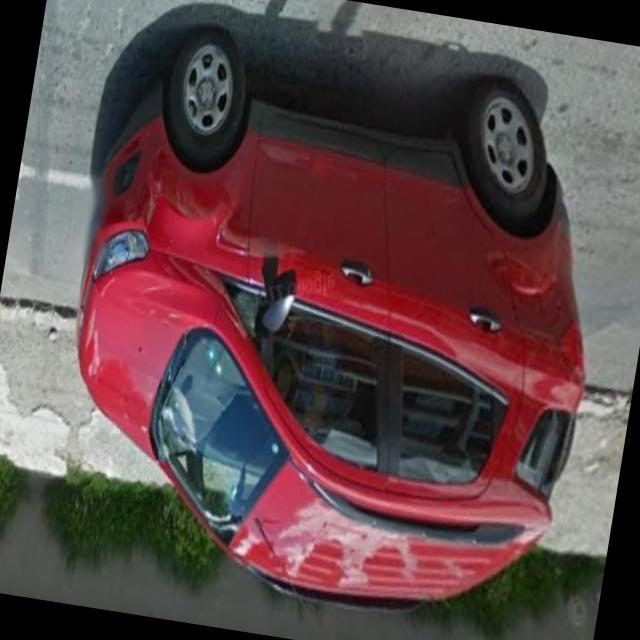car: (34, 6, 636, 640)
